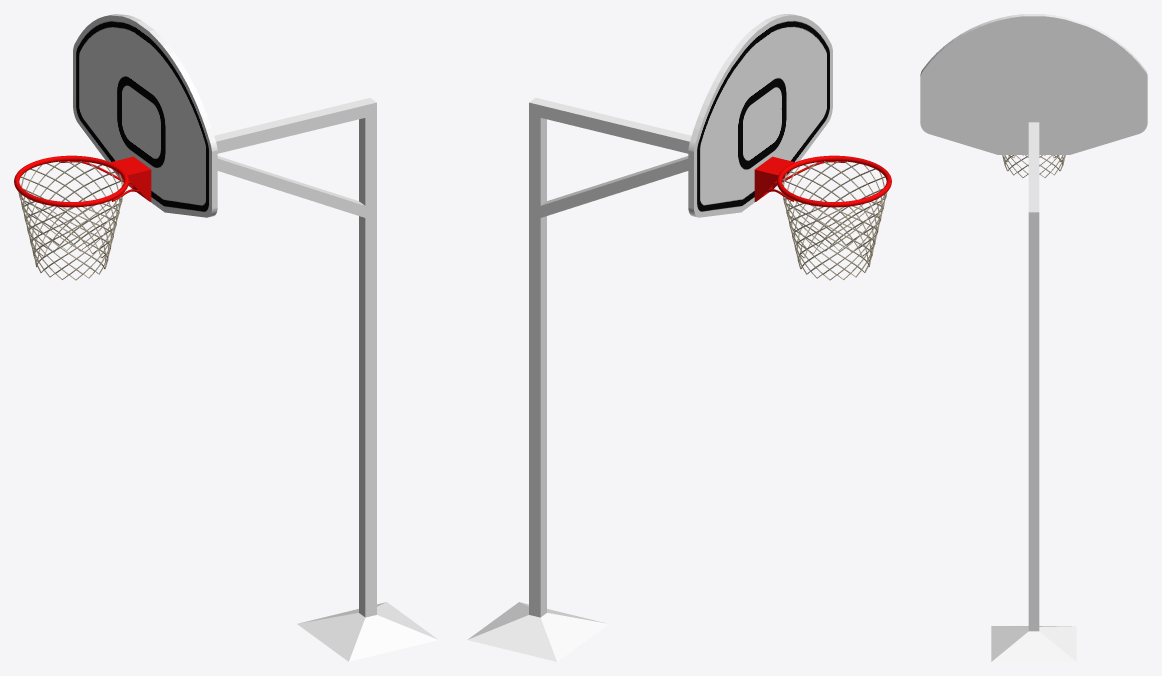
File: hoop2.glb
3 renders of one model, left to right at view 1: azimuth 30°, elevation 25°; view 2: azimuth 150°, elevation 25°; view 3: azimuth 270°, elevation 25°, orthographic. The views are drawn at different scales.
Parts seen in each view (by area): view 1: BASE_1, POSTE_4, CESTA_2, ARO_0, ESCUADRA_3; view 2: BASE_1, POSTE_4, CESTA_2, ARO_0, ESCUADRA_3; view 3: BASE_1, POSTE_4, CESTA_2.
Part boxes in pixels (left/top/right/bottom): BASE_1: left=73, top=14, right=217, bottom=217; POSTE_4: left=214, top=98, right=438, bottom=661; CESTA_2: left=18, top=161, right=123, bottom=280; ARO_0: left=14, top=155, right=128, bottom=207; ESCUADRA_3: left=111, top=156, right=151, bottom=201; BASE_1: left=688, top=14, right=832, bottom=217; POSTE_4: left=467, top=98, right=691, bottom=661; CESTA_2: left=782, top=161, right=887, bottom=280; ARO_0: left=777, top=155, right=891, bottom=207; ESCUADRA_3: left=754, top=156, right=794, bottom=201; BASE_1: left=920, top=14, right=1147, bottom=154; POSTE_4: left=991, top=122, right=1076, bottom=661; CESTA_2: left=1002, top=155, right=1065, bottom=177.
Size of the model in its own units: 1.93 by 3.11 by 1.19.
4 materials, 1 textured.
